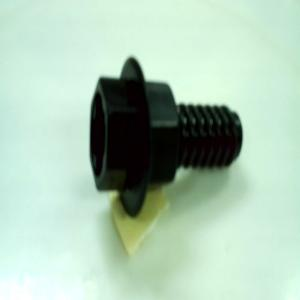parafuso: (89, 54, 245, 218), (87, 58, 244, 218)
